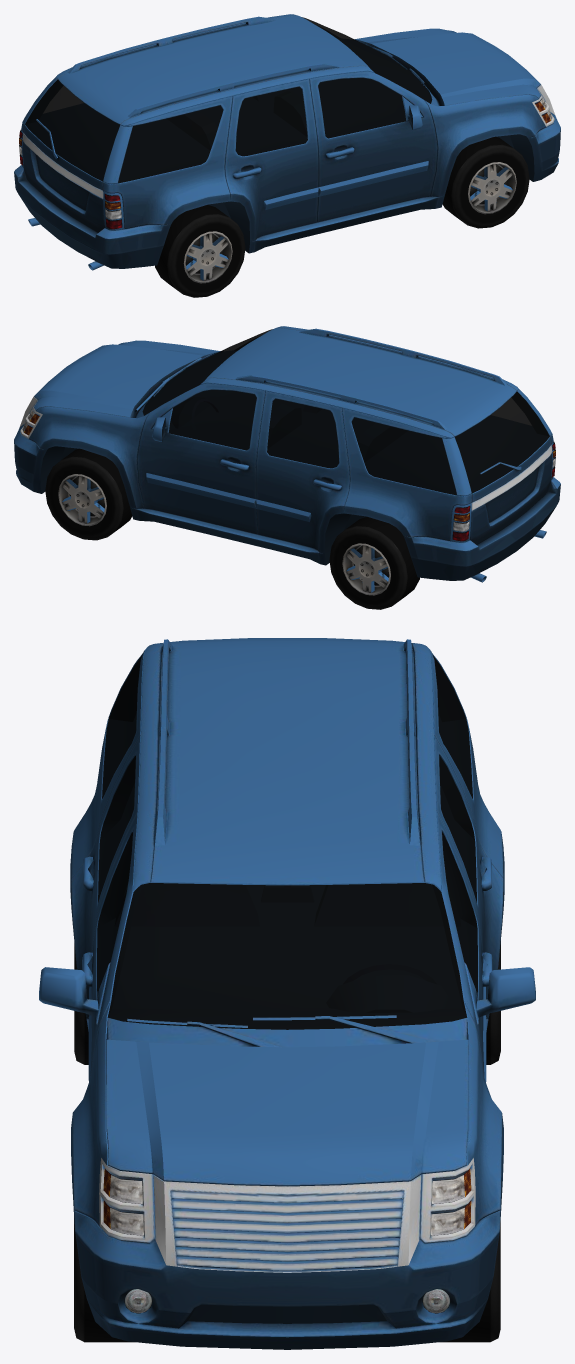
File: suv_blue.glb
The picture shows the model from 3 angles, top to bottom: view 1: azimuth 30°, elevation 25°; view 2: azimuth 150°, elevation 25°; view 3: azimuth 270°, elevation 25°; orthographic projection. The views are drawn at different scales.
Parts seen in each view (by area): view 1: SUV Body; view 2: SUV Body; view 3: SUV Body.
Part boxes in pixels (x1=…): SUV Body: x1=14, y1=14, x2=560, y2=297; SUV Body: x1=14, y1=326, x2=560, y2=609; SUV Body: x1=39, y1=638, x2=535, y2=1349.
Size of the model in its own units: 4.6 by 1.73 by 2.06.
Materials: 4 (3 with a texture image).
